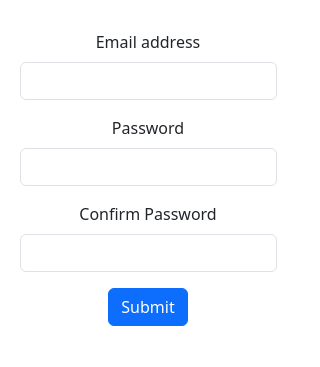
Scenario: APP › Error handling › should show email error message on invalid email
This screenshot has width=320, height=367.
Expected: the text "The email you input is invalid." is not shown
Type "selenagmail.com" into the field labelled "Email address". click: (148, 81)
box: [20,62,276,100]
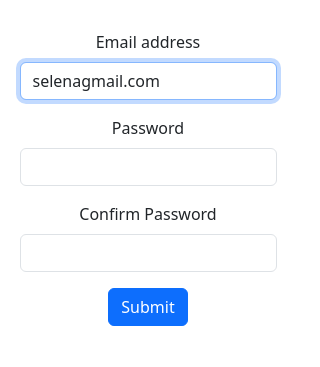
Click the button "Submit". click: (148, 307)
box: [108,288,188,326]
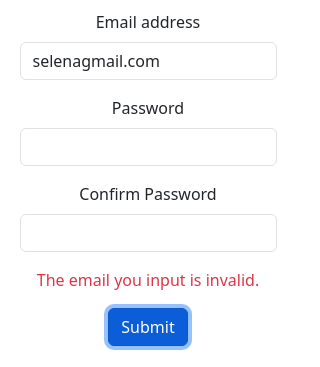
Now the text "The email you input is invalid." is shown, box [20,268,276,292]
